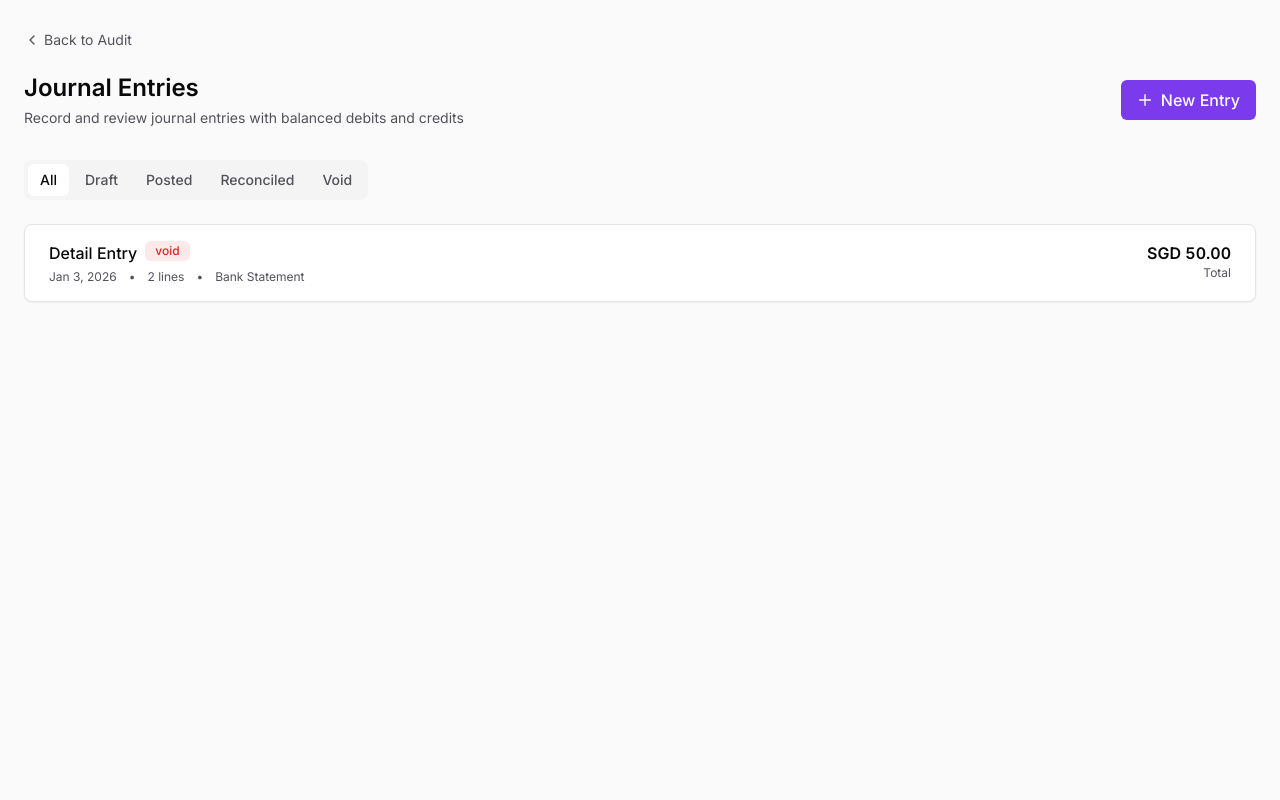
Scenario: JournalPage › AC8.13.92 opens and closes journal entry details from a list row
Click the text "Detail Entry": click(93, 253) left=49, top=241, right=137, bottom=265
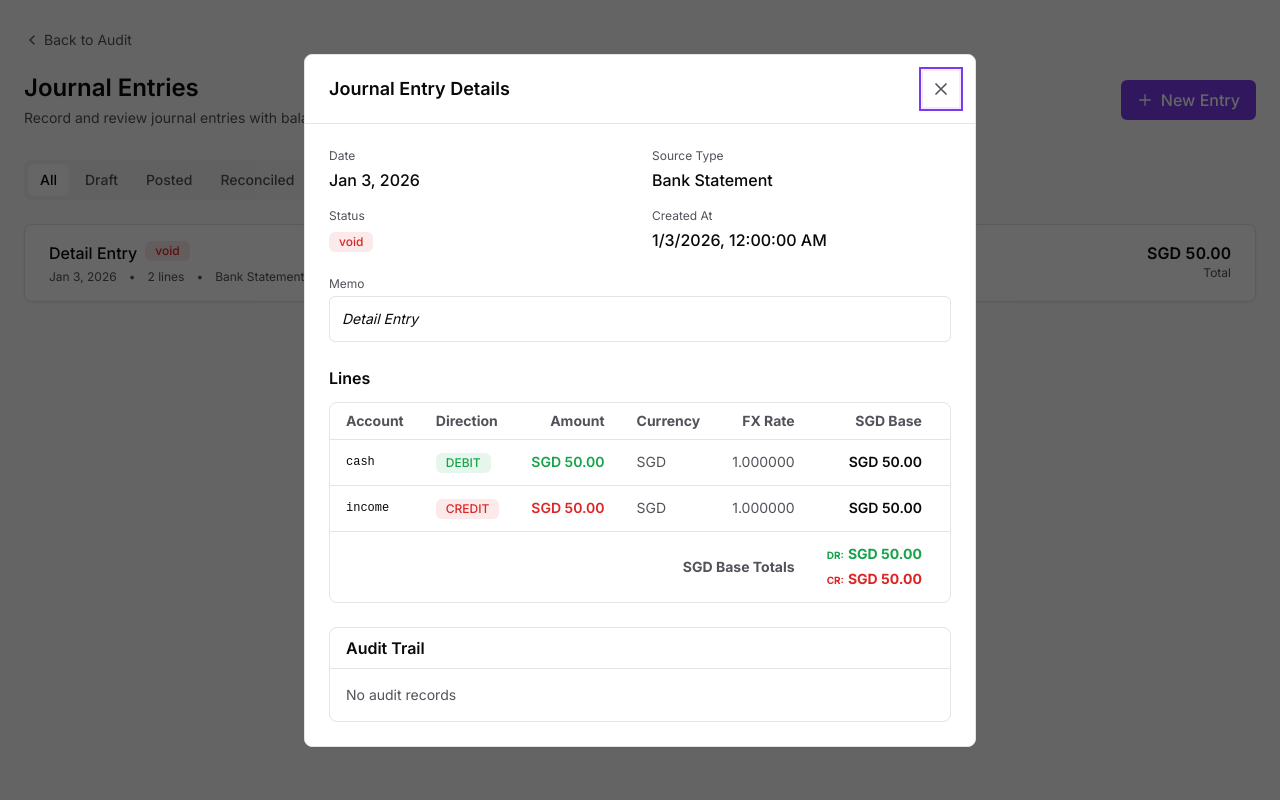
Check: the dialog "Journal Entry Details" shows "bank statement", box left=652, top=170, right=773, bottom=190
Check: the dialog "Journal Entry Details" shows "void", box left=339, top=234, right=363, bottom=248
Click the button named "Close modal": click(941, 88) left=923, top=70, right=959, bottom=106
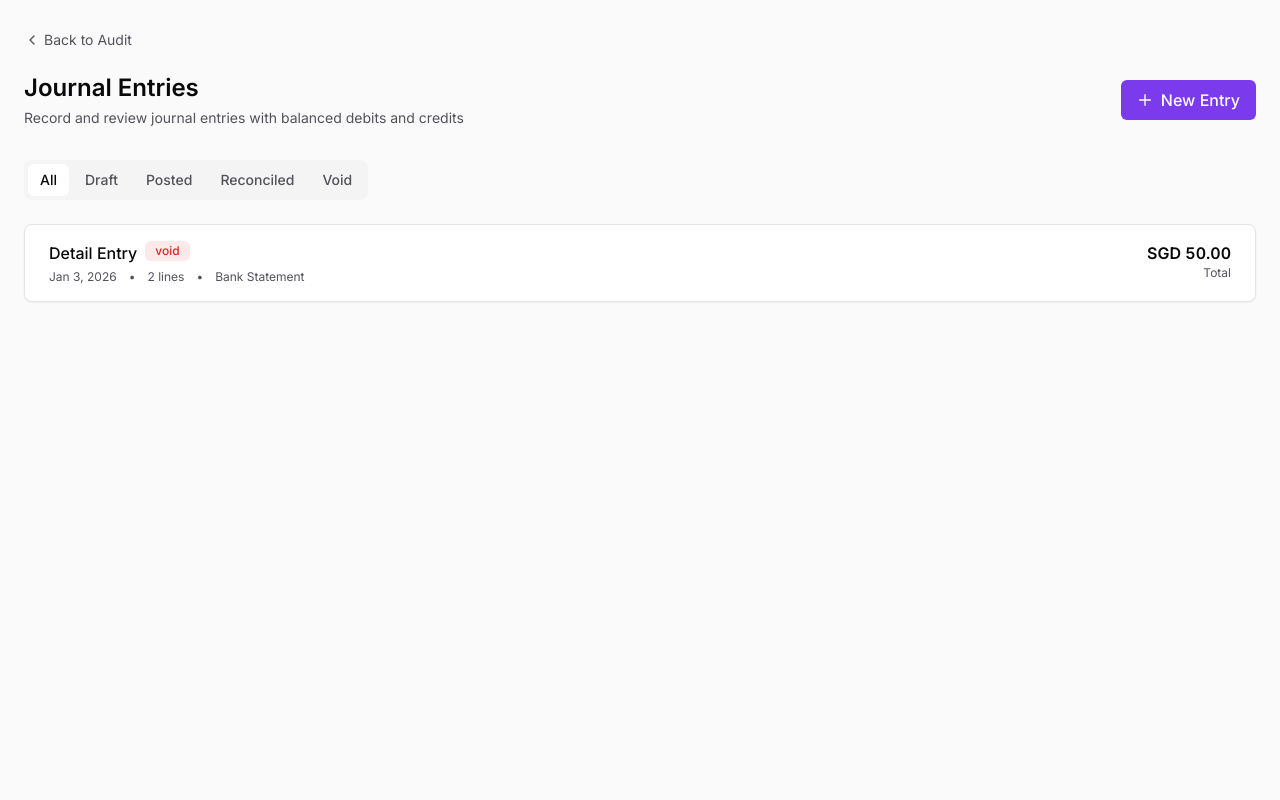
Check: the heading "Journal Entry Details" is gone
